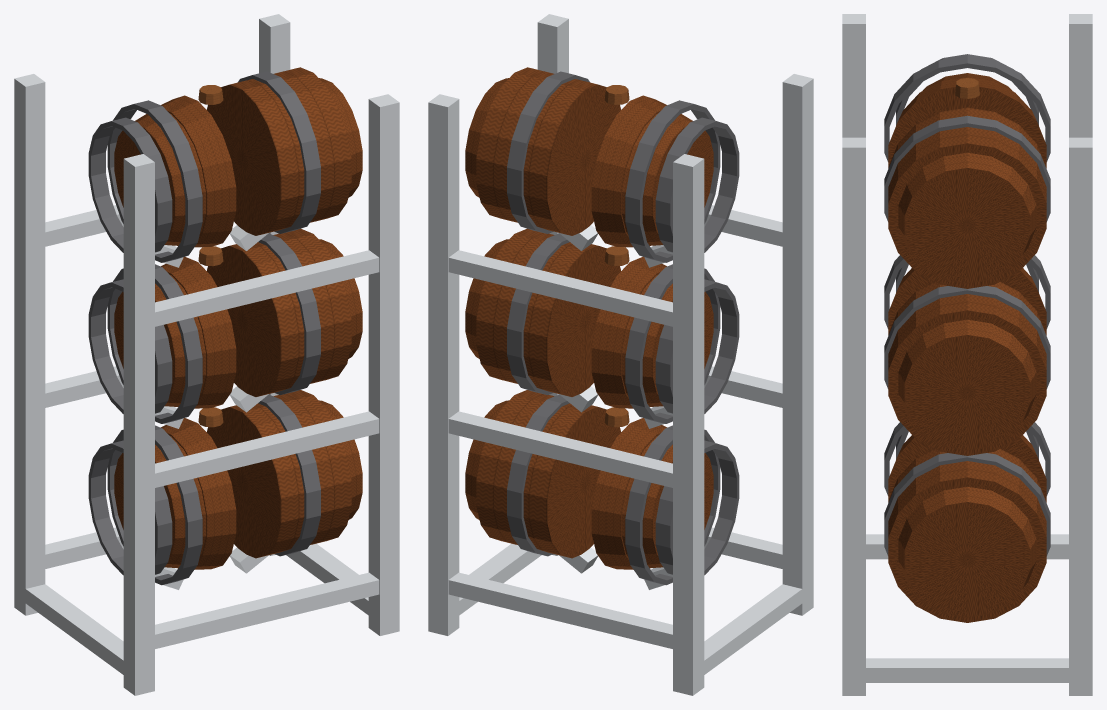
File: barrel-rack-tall.glb
The picture shows the model from 3 angles, left to right: view 1: azimuth 30°, elevation 25°; view 2: azimuth 150°, elevation 25°; view 3: azimuth 270°, elevation 25°; orthographic projection. The views are drawn at different scales.
Visible parts, largest first — view 1: barrel-rack-tall-steel, barrel-rack-tall-oak, barrel-rack-tall-dark, barrel-rack-tall-timber; view 2: barrel-rack-tall-steel, barrel-rack-tall-oak, barrel-rack-tall-dark, barrel-rack-tall-timber; view 3: barrel-rack-tall-oak, barrel-rack-tall-steel, barrel-rack-tall-dark, barrel-rack-tall-timber.
Boxes of the visible parts, box(x1,y1,x2,y2) form: barrel-rack-tall-steel: box(14, 14, 399, 695); barrel-rack-tall-oak: box(114, 67, 362, 569); barrel-rack-tall-dark: box(88, 71, 320, 585); barrel-rack-tall-timber: box(198, 85, 223, 427); barrel-rack-tall-steel: box(428, 14, 813, 695); barrel-rack-tall-oak: box(465, 67, 713, 569); barrel-rack-tall-dark: box(507, 71, 739, 585); barrel-rack-tall-timber: box(604, 85, 629, 427); barrel-rack-tall-oak: box(888, 73, 1046, 622); barrel-rack-tall-steel: box(842, 14, 1092, 695); barrel-rack-tall-dark: box(884, 54, 1050, 555); barrel-rack-tall-timber: box(955, 78, 979, 98).
Size of the model in its own units: 1.34 by 2.56 by 1.06.
Materials: 4 (2 with a texture image).
